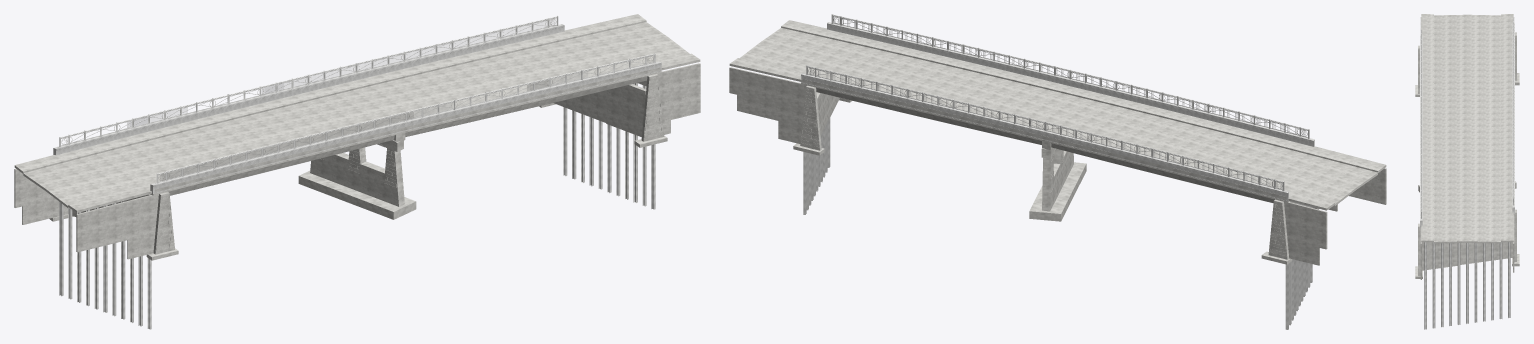
Rendered from model_render.glb.
The picture shows the model from 3 angles, left to right: view 1: azimuth 30°, elevation 25°; view 2: azimuth 150°, elevation 25°; view 3: azimuth 270°, elevation 25°; orthographic projection. The views are drawn at different scales.
Parts seen in each view (by area): view 1: deck, sidewalk_1, parapet_1, parapet_-1, mse_return_west_-1, approach_west, mse_east, approach_east, mse_return_east_-1, parapet_recess_-1, pier_footing, mse_return_west_1 (+11 smaller); view 2: deck, sidewalk_-1, parapet_-1, parapet_1, mse_return_east_1, approach_west, approach_east, mse_return_west_1, parapet_recess_1, pier_footing, beam_B3, beam_A3 (+7 smaller); view 3: deck, sidewalk_-1, sidewalk_1, approach_east, mse_east, approach_west, parapet_-1, approach_walk_east_1, parapet_1, b3_pile_02, b3_pile_05, approach_walk_west_-1 (+17 smaller).
Boxes of the visible parts, <box> form: deck: <box>68,38,661,195</box>; sidewalk_1: <box>56,31,576,161</box>; parapet_1: <box>53,24,564,155</box>; parapet_-1: <box>150,61,661,193</box>; mse_return_west_-1: <box>76,194,158,259</box>; approach_west: <box>23,161,135,208</box>; mse_east: <box>554,86,645,137</box>; approach_east: <box>577,22,689,63</box>; mse_return_east_-1: <box>645,63,700,134</box>; parapet_recess_-1: <box>154,67,660,192</box>; pier_footing: <box>298,170,416,219</box>; mse_return_west_1: <box>14,168,67,224</box>; deck: <box>801,37,1310,202</box>; sidewalk_-1: <box>824,29,1313,154</box>; parapet_-1: <box>827,22,1314,146</box>; parapet_1: <box>801,73,1288,200</box>; mse_return_east_1: <box>729,67,806,143</box>; approach_west: <box>1292,155,1377,206</box>; approach_east: <box>740,28,823,73</box>; mse_return_west_1: <box>1284,202,1327,265</box>; parapet_recess_1: <box>802,79,1286,199</box>; pier_footing: <box>1029,162,1086,221</box>; beam_B3: <box>816,87,1041,144</box>; beam_A3: <box>1051,143,1274,203</box>; deck: <box>1420,31,1514,228</box>; sidewalk_-1: <box>1422,39,1433,225</box>; sidewalk_1: <box>1501,28,1512,214</box>; approach_east: <box>1434,215,1500,243</box>; mse_east: <box>1422,242,1512,270</box>; approach_west: <box>1434,14,1500,39</box>; parapet_-1: <box>1420,35,1422,227</box>; approach_walk_east_1: <box>1501,212,1513,242</box>; parapet_1: <box>1512,23,1514,213</box>; b3_pile_02: <box>1432,242,1435,328</box>; b3_pile_05: <box>1457,243,1460,324</box>; approach_walk_west_-1: <box>1421,14,1433,39</box>.
Size of the model in its own units: 87.47 by 21.6 by 17.12.
4 materials, 3 textured.
